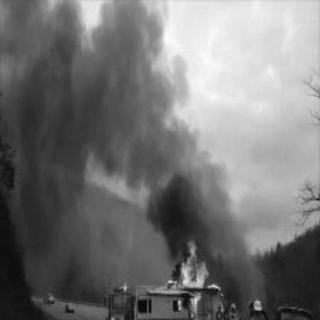other: (119, 281, 129, 293)
